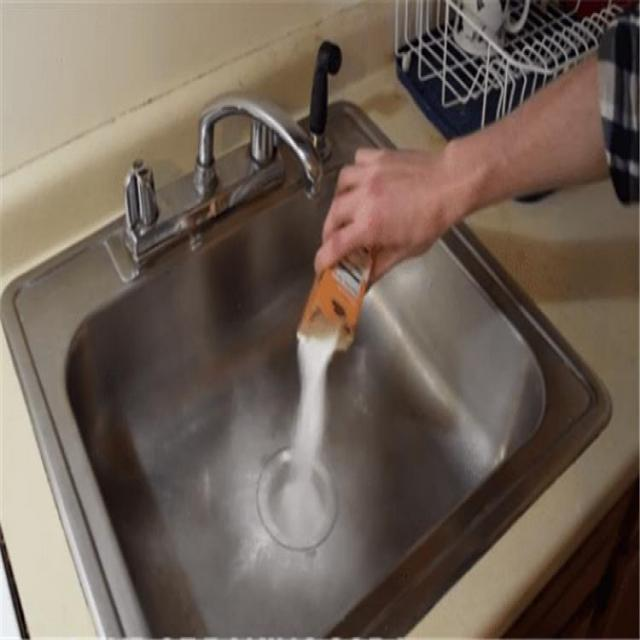tap: (180, 63, 337, 209)
wash basin: (105, 212, 522, 607)
